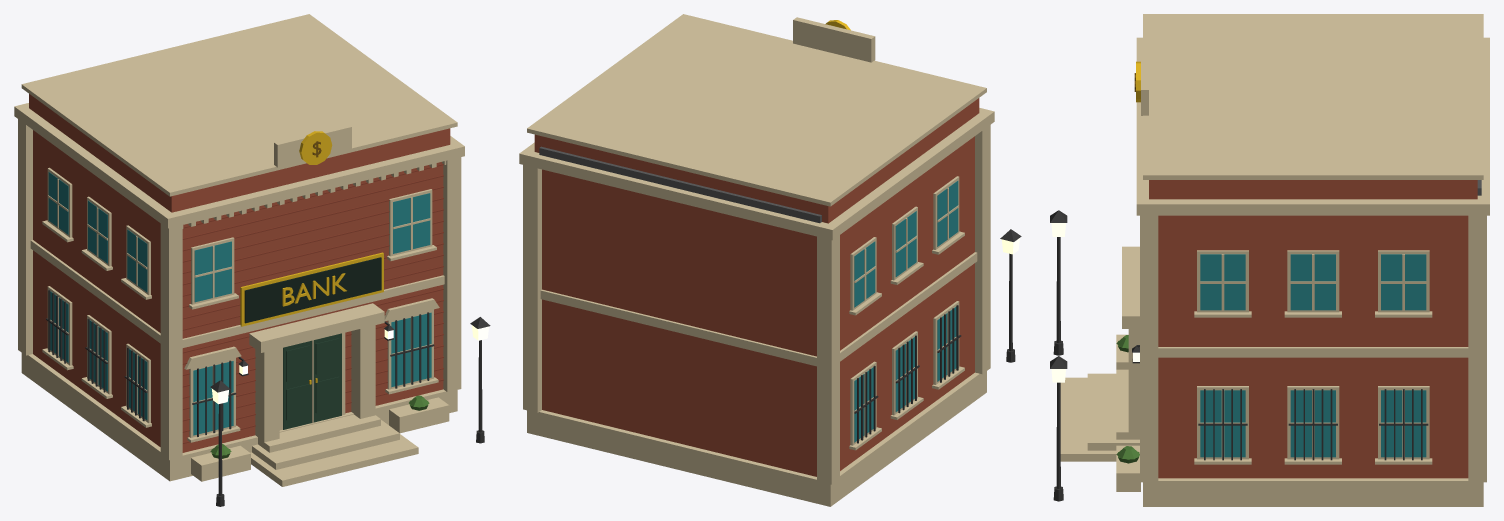
File: Building_Bank.fbx
3 views of the same model, side by side, from view 1: azimuth 30°, elevation 25°; view 2: azimuth 150°, elevation 25°; view 3: azimuth 270°, elevation 25° (orthographic). The views are drawn at different scales.
Parts seen in each view (by area): view 1: Building_Bank; view 2: Building_Bank; view 3: Building_Bank.
Part boxes in pixels (x1,y1,x2,y2): Building_Bank: [14, 14, 490, 506]; Building_Bank: [519, 14, 1021, 506]; Building_Bank: [1050, 14, 1489, 506].
Bounding box in the file's own units: 9.6 × 9.75 × 10.71.
